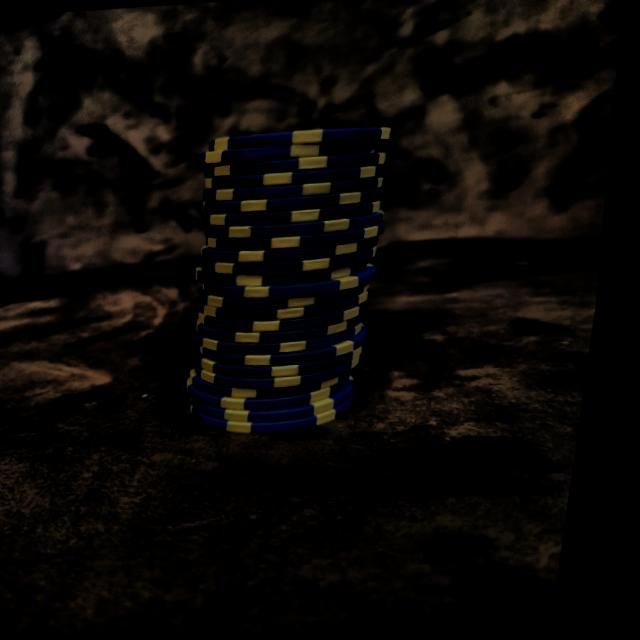Chip: (154, 106, 419, 467)
